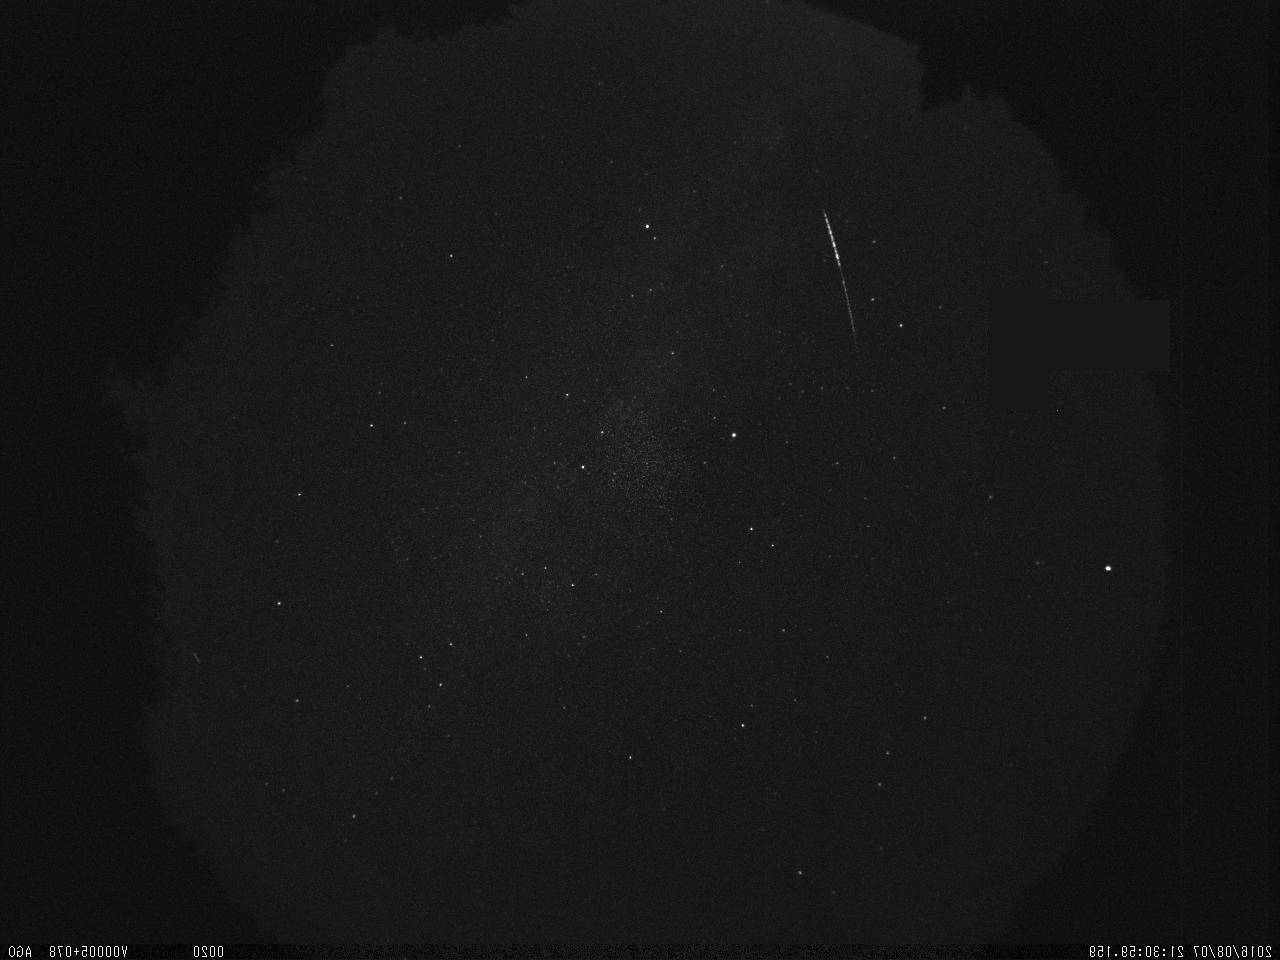meteor: (814, 200, 874, 361)
